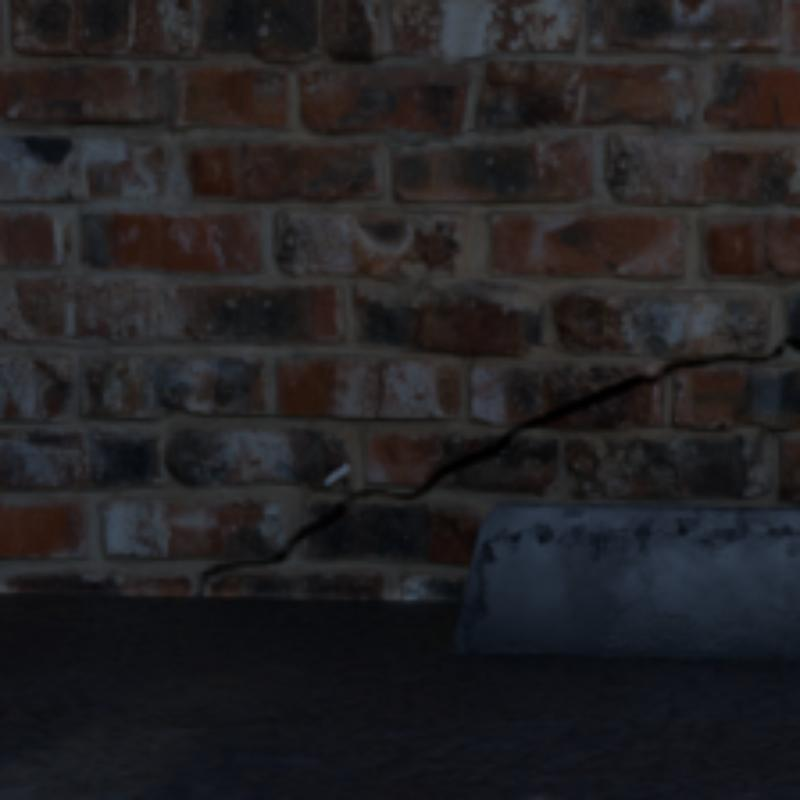pothole: (196, 336, 796, 593)
